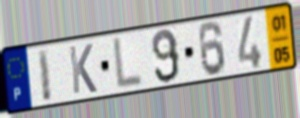4: (236, 13, 265, 72)
6: (197, 19, 227, 79)
9: (150, 27, 182, 86)
I: (35, 46, 54, 105)
K: (67, 42, 99, 96)
L: (112, 35, 146, 92)
